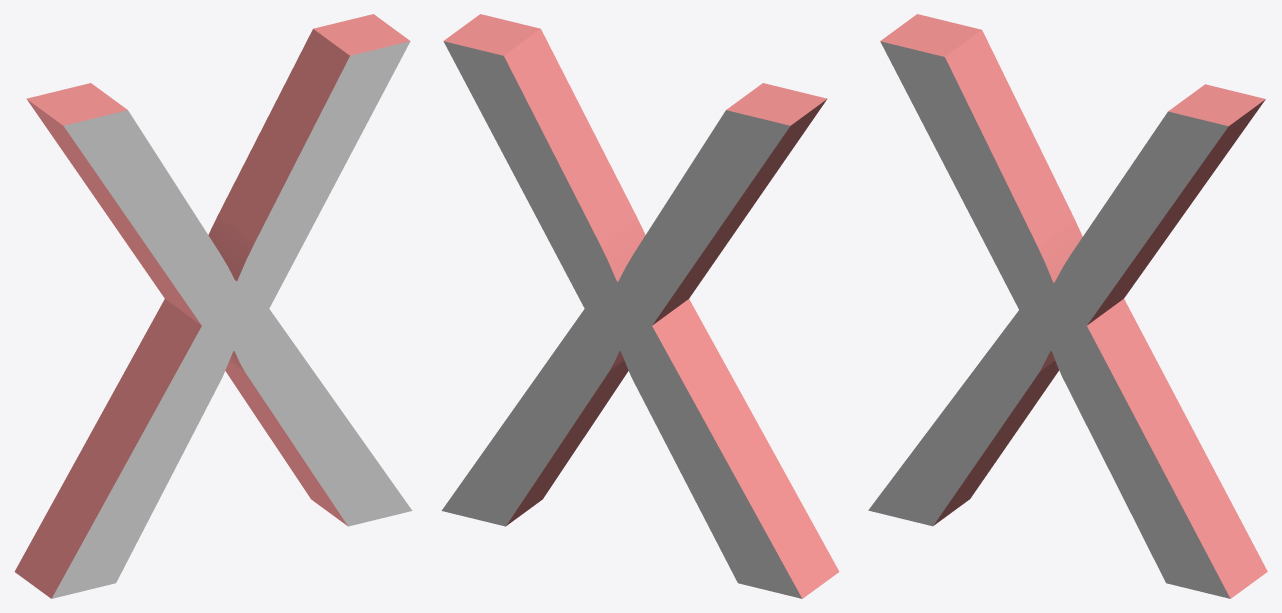
3 renders of one model, left to right at view 1: azimuth 30°, elevation 25°; view 2: azimuth 150°, elevation 25°; view 3: azimuth 330°, elevation 25°, orthographic.
Visible parts, largest first — view 1: Шапка_1, 3d; view 2: Шапка_2, 3d; view 3: Шапка_1, 3d.
Boxes of the visible parts, x1,y1,x2,y2 form: Шапка_1: (51, 41, 412, 598); 3d: (14, 14, 409, 598); Шапка_2: (441, 41, 802, 598); 3d: (444, 14, 839, 598); Шапка_1: (868, 41, 1230, 598); 3d: (880, 14, 1267, 598).
Bounding box in the file's own units: 25.32 × 31.51 × 4.5.
